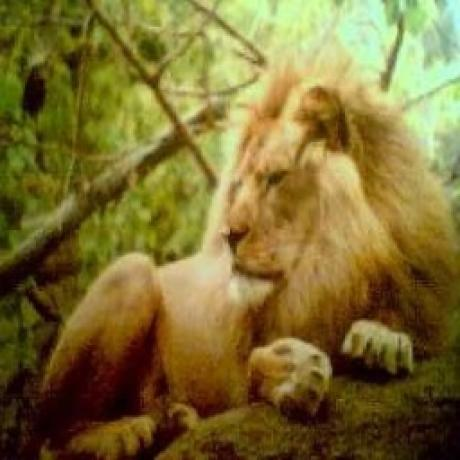Lion: (20, 39, 460, 460)
